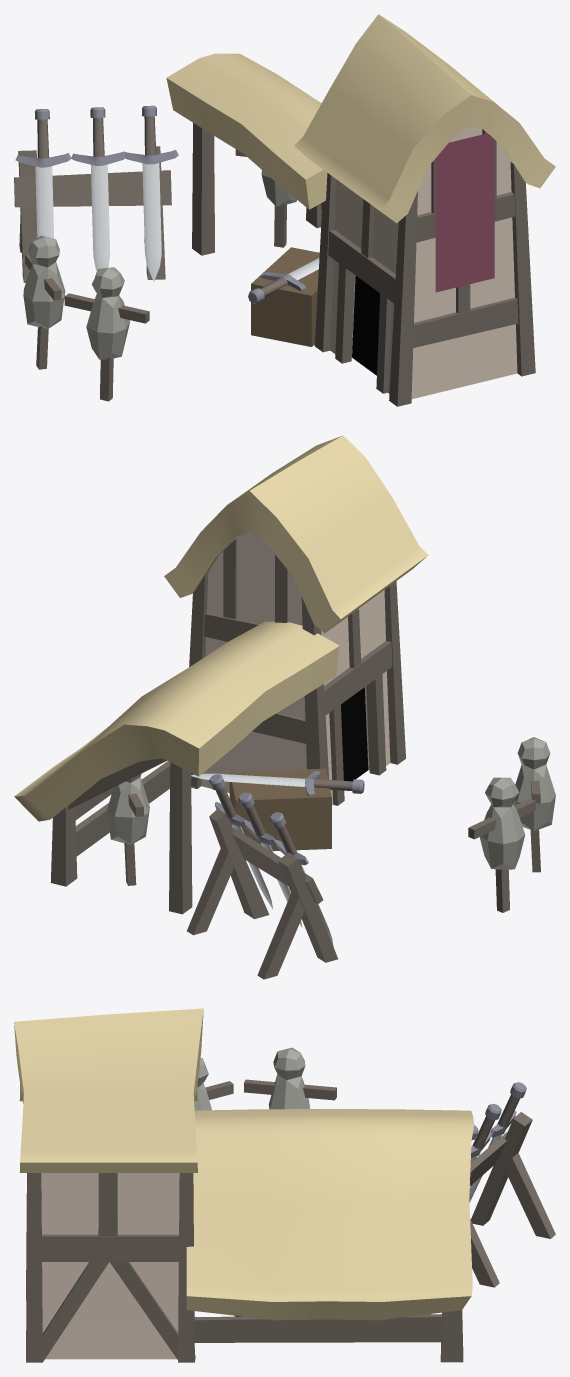
Rendered from MESH_Barracks.fbx.
3 renders of one model, top to bottom at view 1: azimuth 30°, elevation 25°; view 2: azimuth 150°, elevation 25°; view 3: azimuth 270°, elevation 25°, orthographic. The views are drawn at different scales.
Parts seen in each view (by area): view 1: MESH_Barracks; view 2: MESH_Barracks; view 3: MESH_Barracks.
Boxes of the visible parts, x1,y1,x2,y2 form: MESH_Barracks: (14,14,555,406); MESH_Barracks: (14,435,555,979); MESH_Barracks: (14,1008,555,1362).
Bounding box in the file's own units: 438 × 315 × 483.
